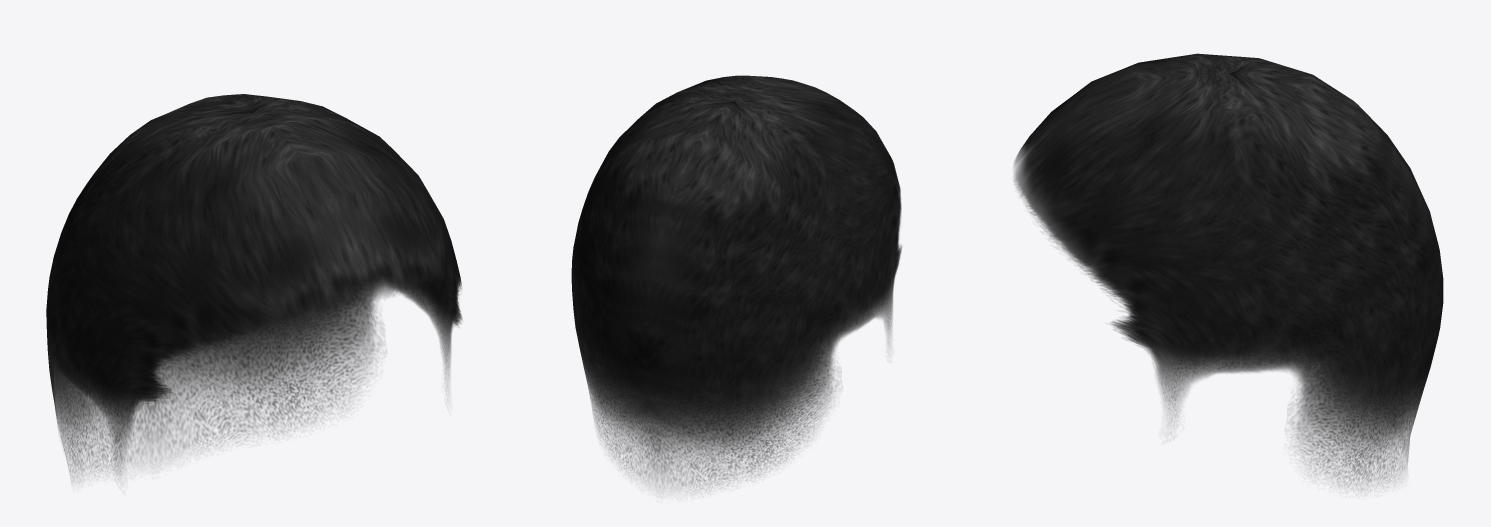
Rendered from diamond_straight_02 HighFade.glb.
3 views of the same model, side by side, from view 1: azimuth 30°, elevation 25°; view 2: azimuth 150°, elevation 25°; view 3: azimuth 270°, elevation 25° (orthographic). The views are drawn at different scales.
Visible parts, largest first — view 1: Scalp.026; view 2: Scalp.026; view 3: Scalp.026.
Boxes of the visible parts, x1,y1,x2,y2 form: Scalp.026: [46, 94, 462, 481]; Scalp.026: [571, 75, 901, 491]; Scalp.026: [1014, 53, 1443, 491].
Bounding box in the file's own units: 0.2154 × 0.2511 × 0.2518.
2 materials, 2 textured.
